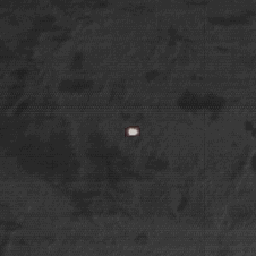Target: (125, 127, 140, 136)
